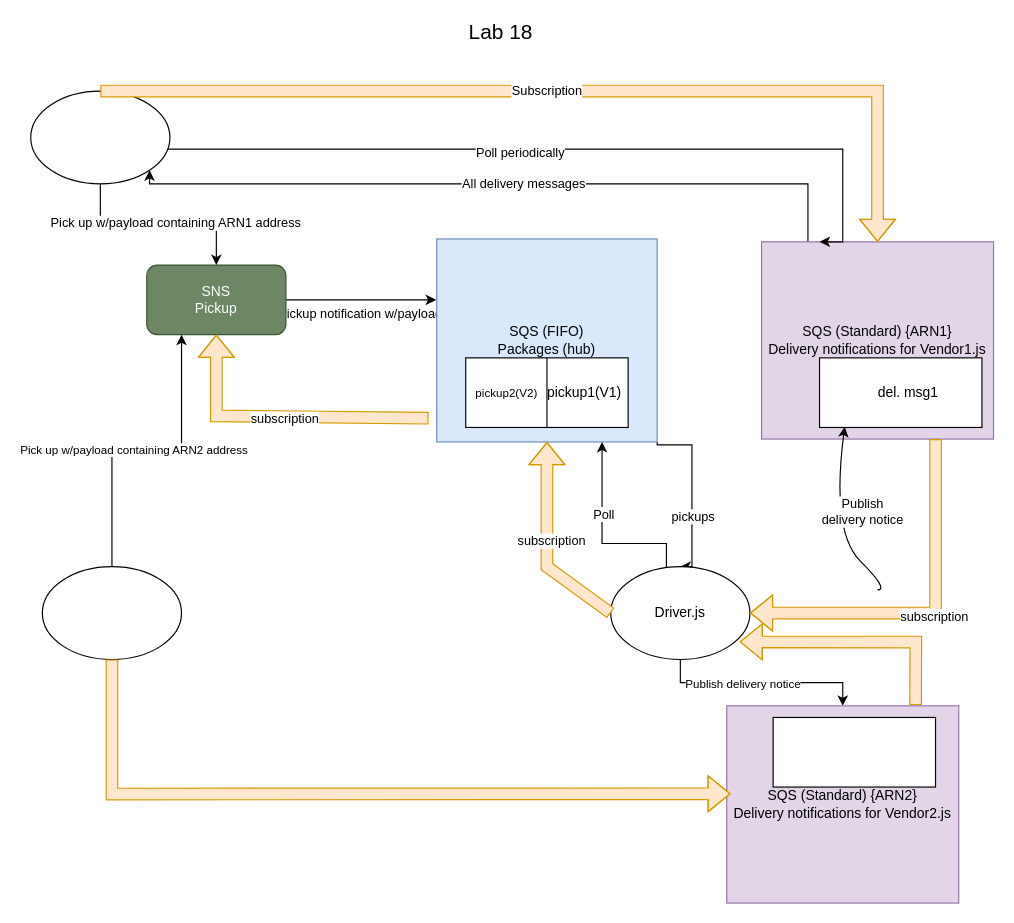
This 1014x923 diagram has some shape labels left out. Each missing label, with the centre of its shape:
del. msg2: the point at 854,751
Vendor1.js (publisher) & (subscriber): the point at 100,137
Vendor2.js (publisher) & (subscriber): the point at 111,612
